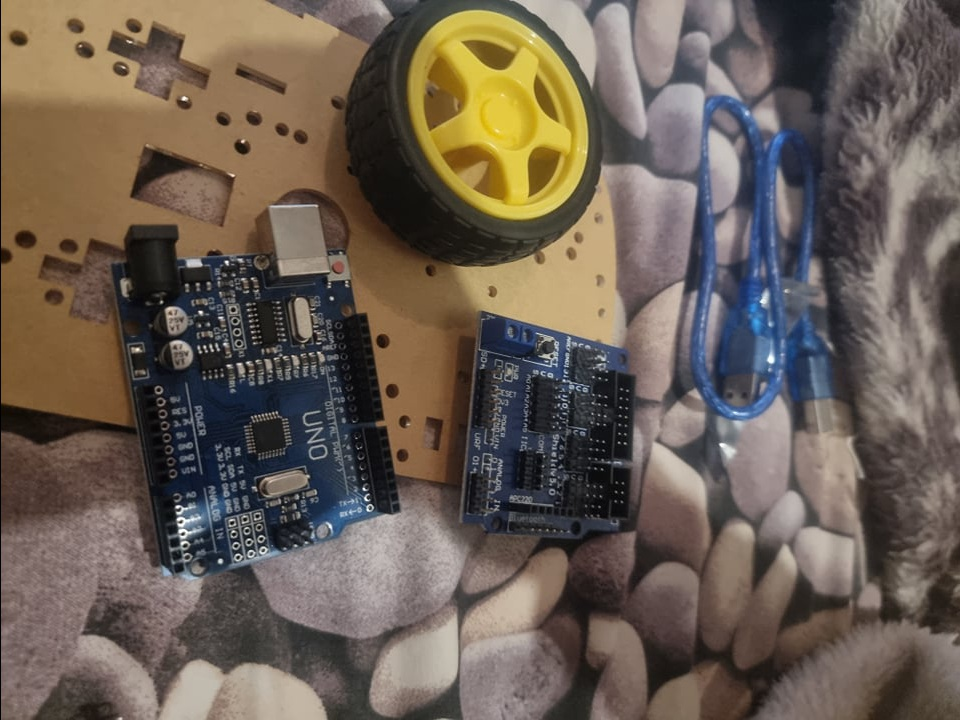5V EXPANSION: (453, 307, 638, 541)
UNO R3: (110, 190, 403, 581)
